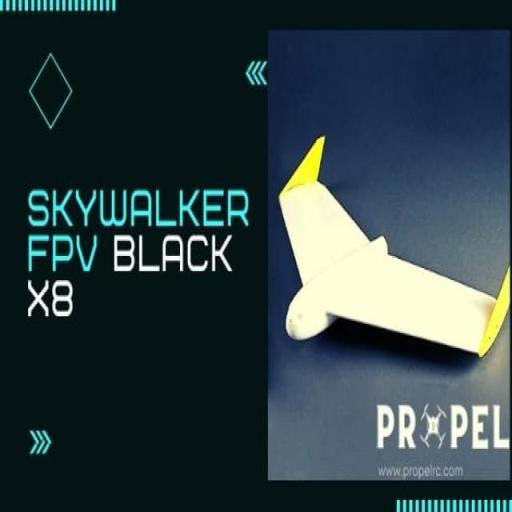uav: (275, 128, 512, 381)
